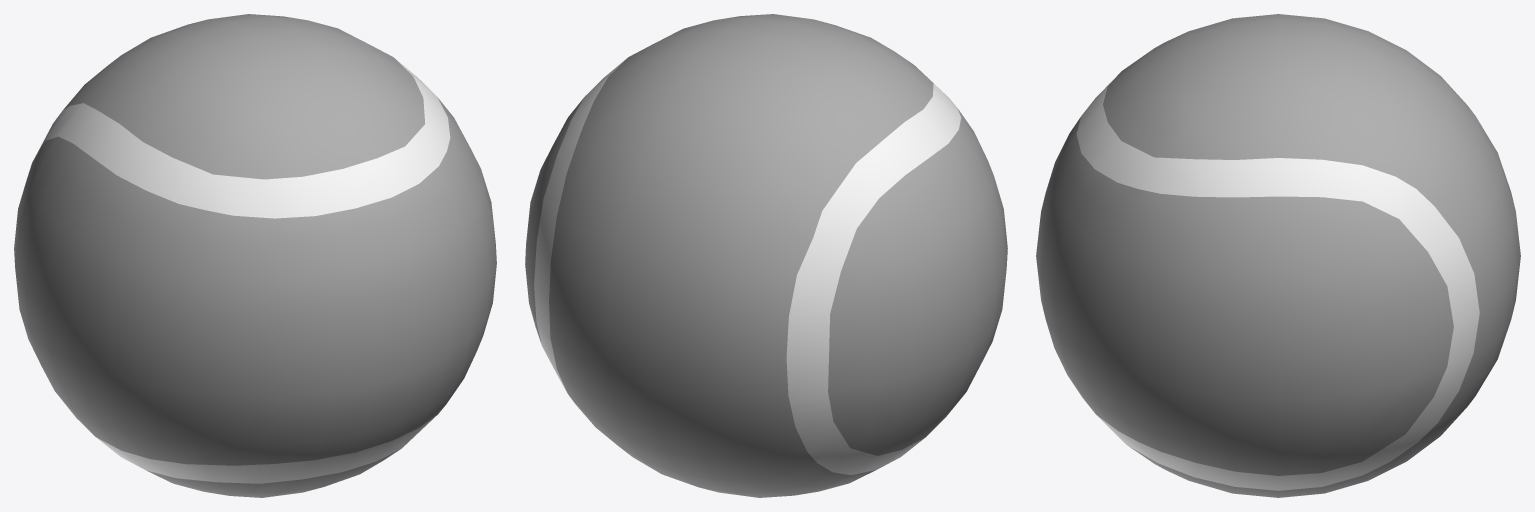
The model's file is Tennisball.fbx.
3 views of the same model, side by side, from view 1: azimuth 30°, elevation 25°; view 2: azimuth 150°, elevation 25°; view 3: azimuth 270°, elevation 25° (orthographic).
Visible parts, largest first — view 1: Tennisball; view 2: Tennisball; view 3: Tennisball.
Boxes of the visible parts, bbox=[...] form: Tennisball: bbox=[14, 14, 496, 497]; Tennisball: bbox=[525, 14, 1007, 497]; Tennisball: bbox=[1036, 14, 1520, 497].
Bounding box in the file's own units: 92.63 × 92.63 × 92.63.
